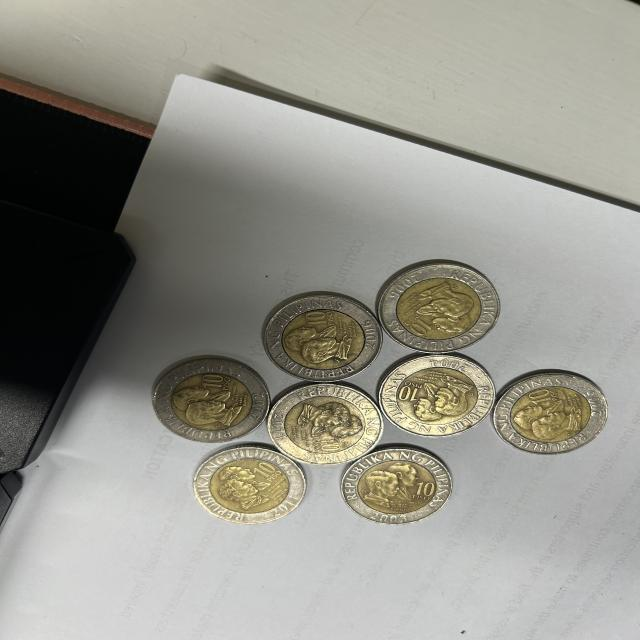10_Old_Front: (200, 373, 232, 391), (408, 318, 434, 337), (528, 388, 553, 406), (411, 480, 437, 497), (304, 312, 331, 328), (251, 462, 277, 478), (317, 436, 341, 452), (397, 385, 419, 400)
